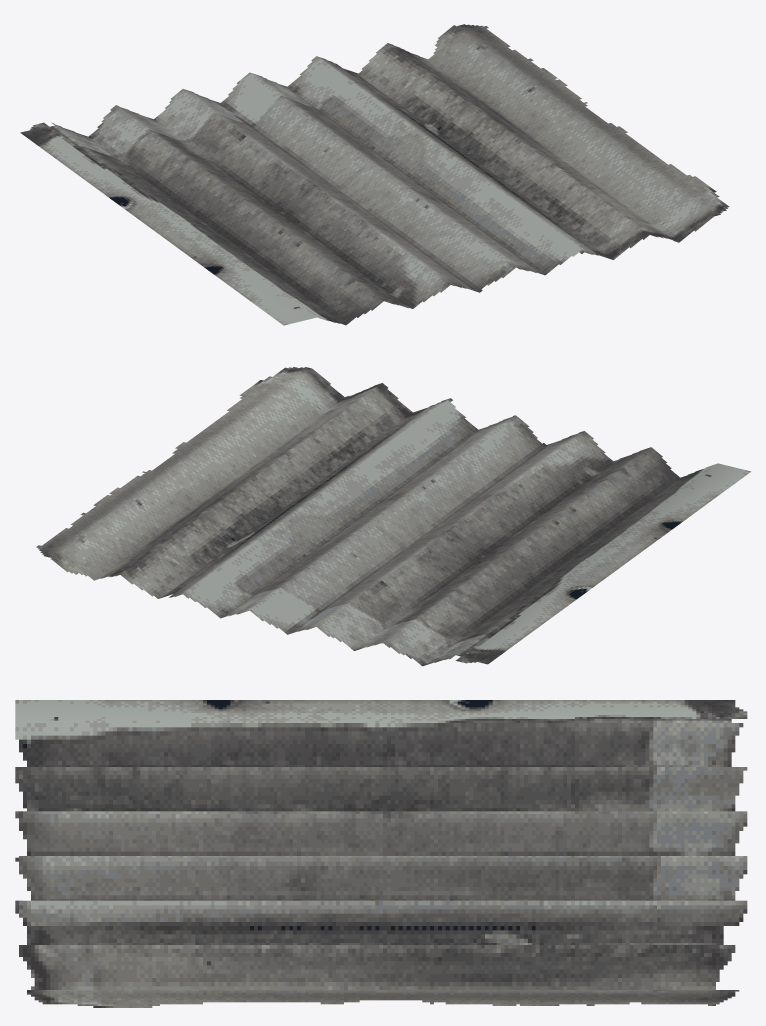
Rendered from retro_slate.glb.
3 views of the same model, one above another, from view 1: azimuth 30°, elevation 25°; view 2: azimuth 150°, elevation 25°; view 3: azimuth 270°, elevation 25° (orthographic). The views are drawn at different scales.
Visible parts, largest first — view 1: Plane; view 2: Plane; view 3: Plane.
Part boxes in pixels (bbox=[...]): Plane: bbox=[20, 24, 729, 325]; Plane: bbox=[36, 367, 751, 666]; Plane: bbox=[15, 700, 747, 1007].
Size of the model in its own units: 2 by 0.0788 by 2.
1 material, 1 textured.
